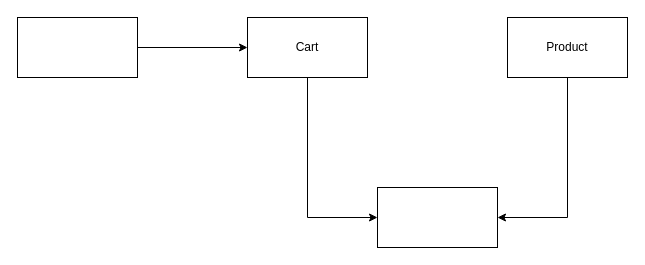
Some shapes in this 645 by 265 pixel diagram are drawn without their labels. The centre of each missing label's shape, as x and y in pixels:
"Product to cart" goes at [437,217].
"User" goes at [77,47].
